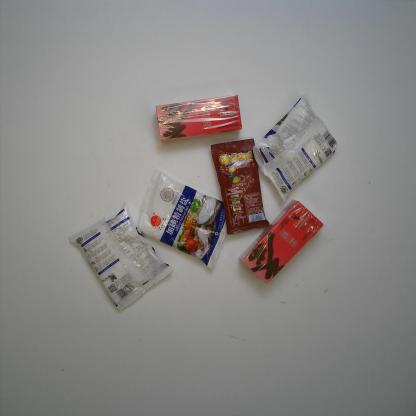Candy: (210, 138, 270, 235)
Instant Drink: (238, 199, 324, 285), (156, 95, 242, 141)
Seasoner: (69, 201, 174, 312), (133, 168, 230, 270), (252, 92, 338, 203)
